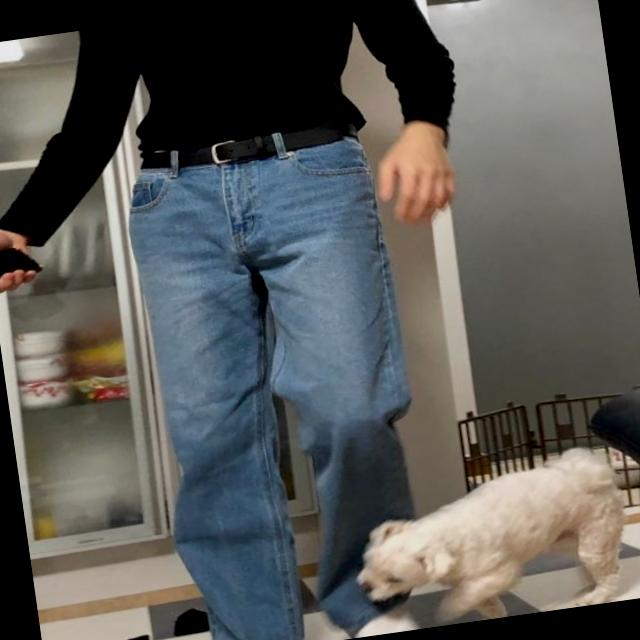denimpants: (118, 114, 443, 640)
longsleeve: (0, 0, 474, 260)
